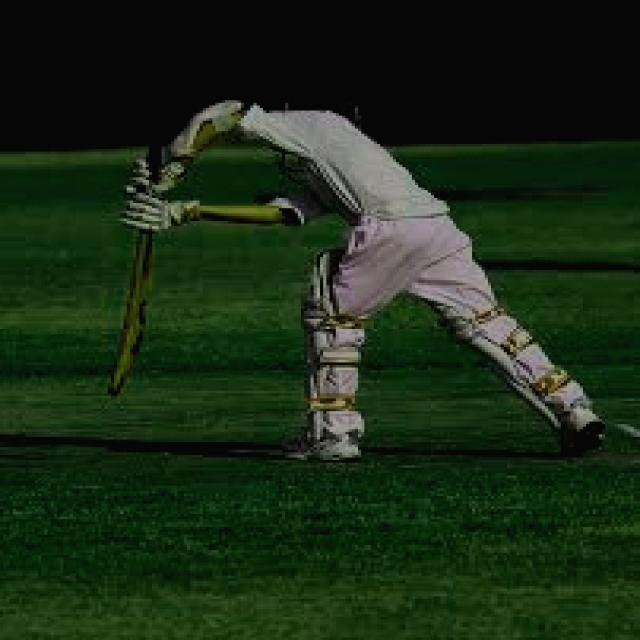bat: (116, 214, 161, 407)
